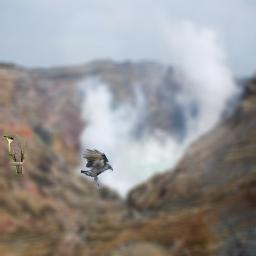Crow: (81, 149, 113, 189)
Cuckoo: (3, 134, 25, 174)
